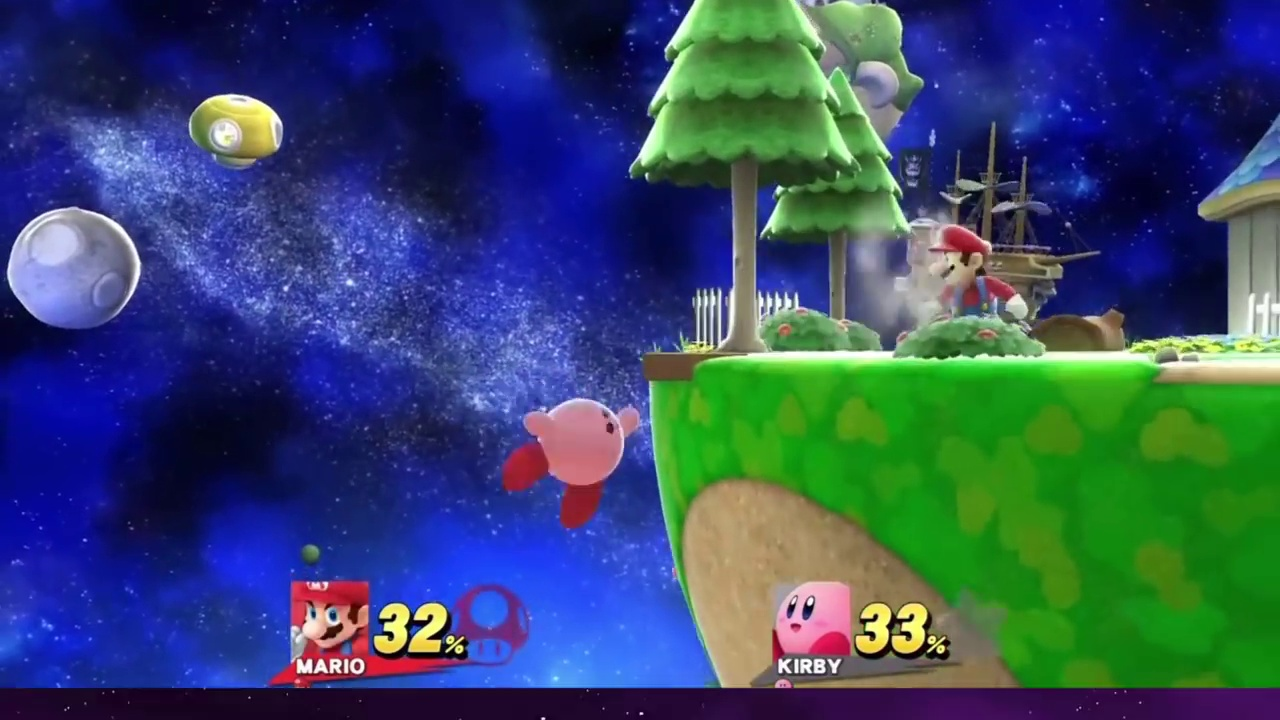Mario: (918, 226, 1028, 321)
